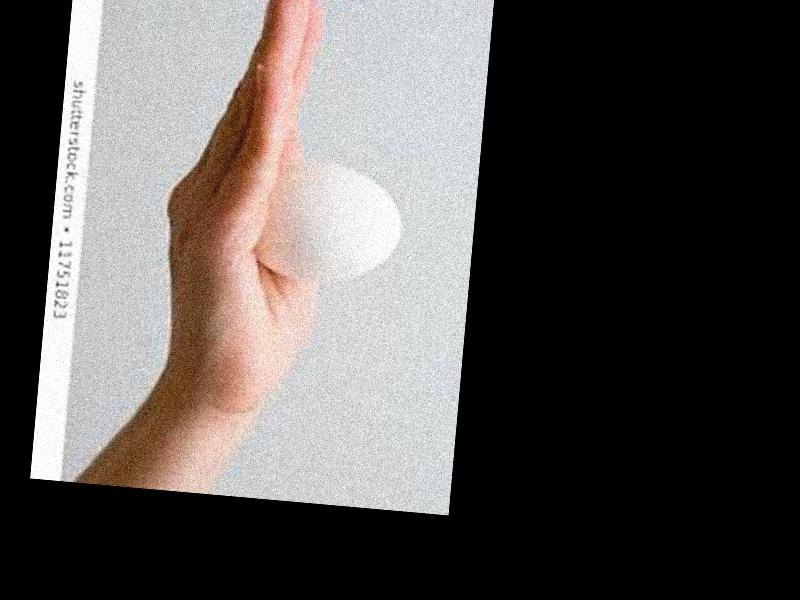Eggs: (252, 157, 405, 281)
